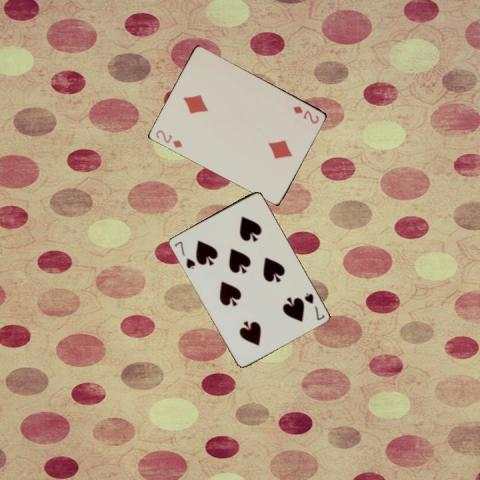2d: (290, 102, 321, 124), (153, 127, 184, 149)
7s: (171, 238, 196, 271), (301, 290, 326, 322)
